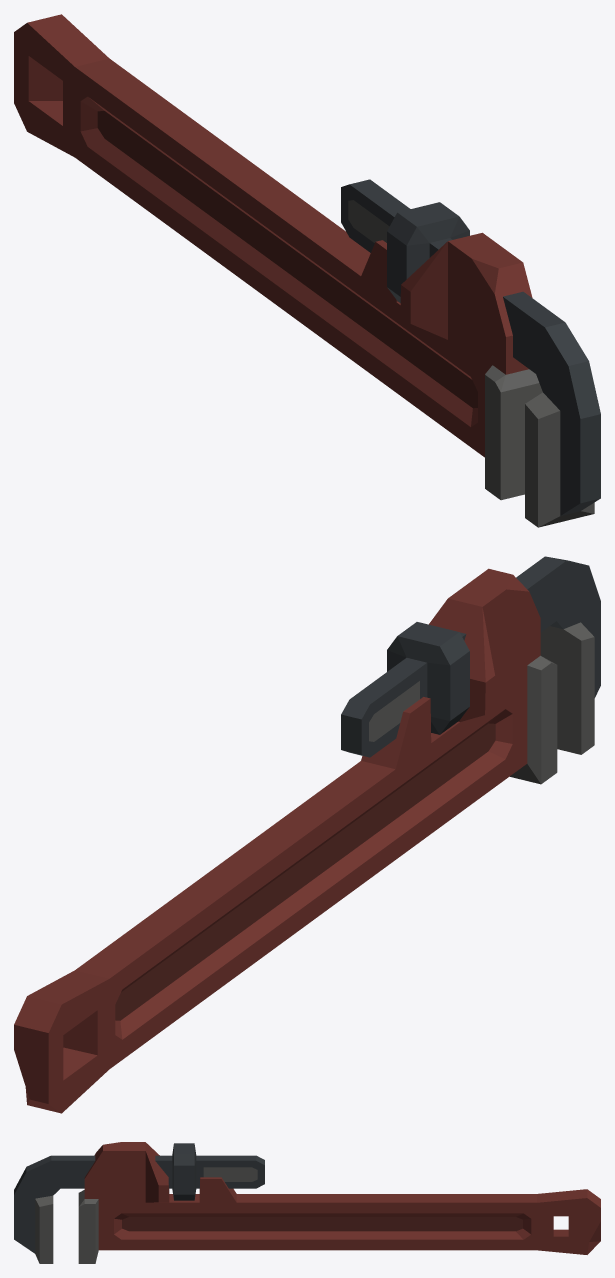
File: SM_Item_Pipe_Wrench_01.fbx
3 renders of one model, top to bottom at view 1: azimuth 30°, elevation 25°; view 2: azimuth 150°, elevation 25°; view 3: azimuth 270°, elevation 25°, orthographic. The views are drawn at different scales.
Parts seen in each view (by area): view 1: SM_Item_Pipe_Wrench_01; view 2: SM_Item_Pipe_Wrench_01; view 3: SM_Item_Pipe_Wrench_01.
Part boxes in pixels (box(x1,y1,x2,y2)): SM_Item_Pipe_Wrench_01: box(14, 14, 600, 527); SM_Item_Pipe_Wrench_01: box(14, 556, 600, 1113); SM_Item_Pipe_Wrench_01: box(14, 1142, 600, 1263).
Bounding box in the file's own units: 5.34 × 12.65 × 61.11.
